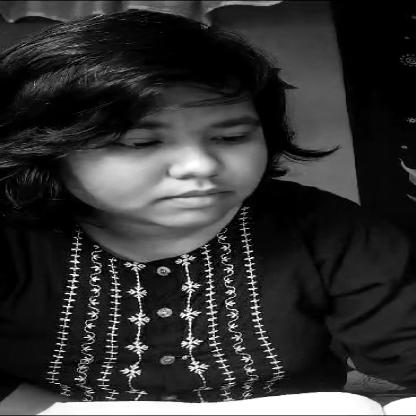Distracted: (6, 27, 289, 228)
